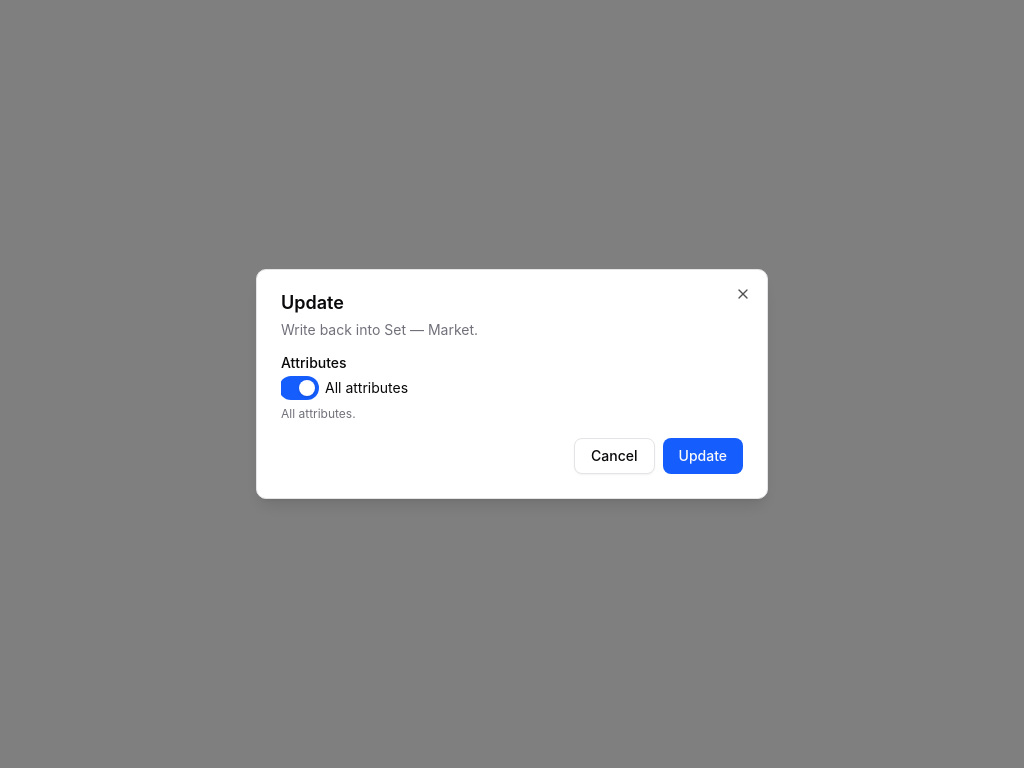
it: UpdateDialog mask › closes and says so when an Update into an included Look writes nothing (Mode A)
The width and height of the screenshot is (1024, 768).
What coordinates should you click on to do the following:
click the button "Update"
I would click on:
 (703, 456)
Its box is [662, 438, 743, 474].
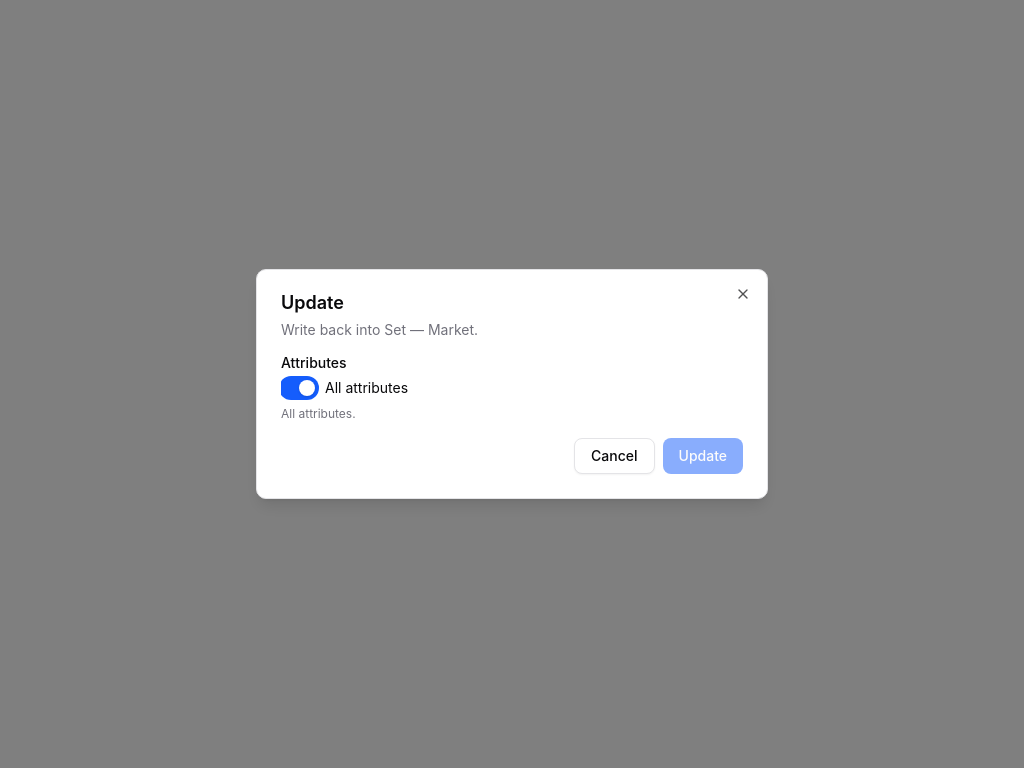
Check: the button "Update" is disabled, box [662, 438, 743, 474]
